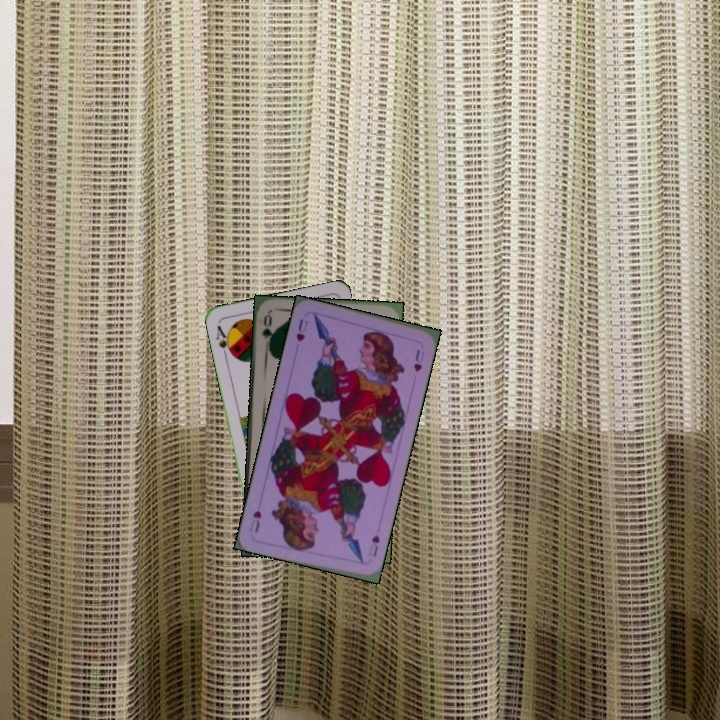GO: (258, 311, 276, 352)
HU: (364, 531, 382, 559), (292, 315, 307, 344)
SA: (212, 322, 236, 360)
